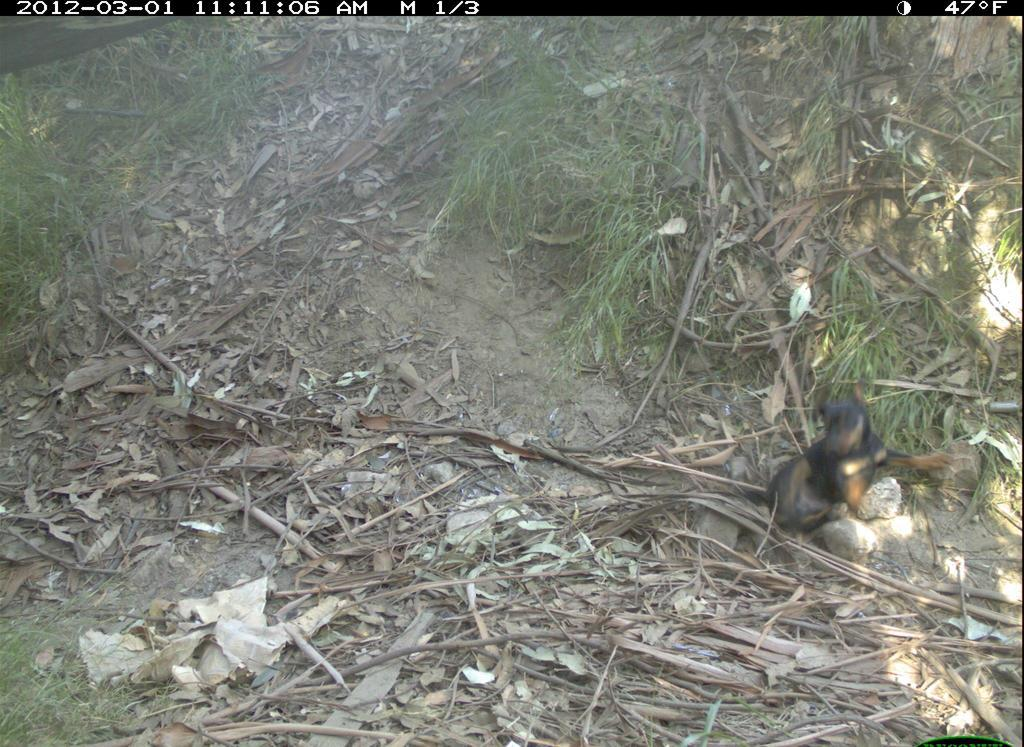dog: (725, 373, 973, 562)
